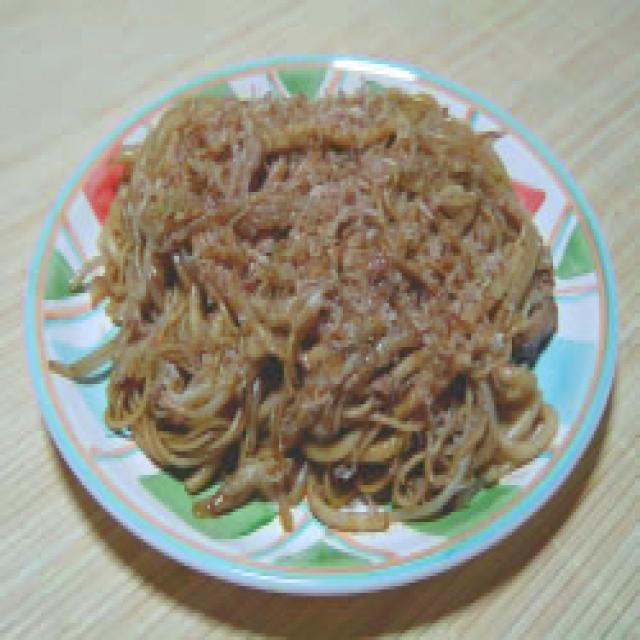面条主食: (13, 51, 627, 606)
